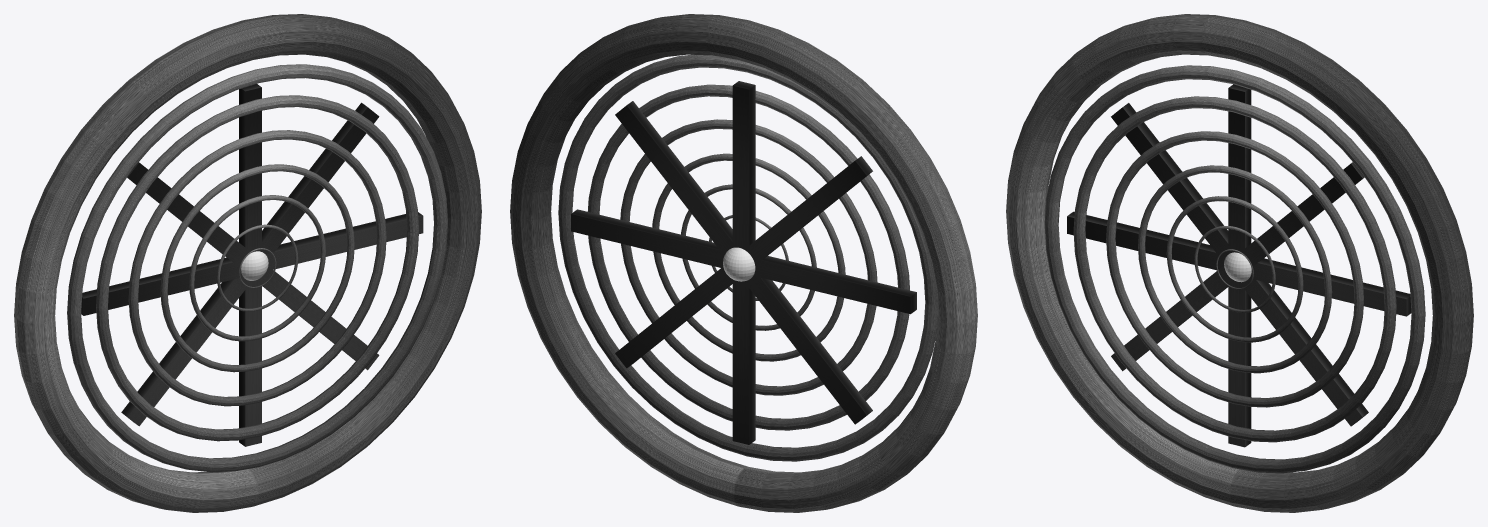
The model's file is ventilador.glb.
3 views of the same model, side by side, from view 1: azimuth 30°, elevation 25°; view 2: azimuth 150°, elevation 25°; view 3: azimuth 330°, elevation 25° (orthographic).
Parts seen in each view (by area): view 1: Torus, Cube.006, Sphere; view 2: Torus, Cube.006, Sphere; view 3: Torus, Cube.006, Sphere.
Part boxes in pixels (<box>): Torus: <box>14,14,481,512</box>; Cube.006: <box>81,84,423,446</box>; Sphere: <box>241,251,268,280</box>; Torus: <box>510,14,977,512</box>; Cube.006: <box>571,81,916,444</box>; Sphere: <box>723,247,755,281</box>; Torus: <box>1006,14,1473,512</box>; Cube.006: <box>1067,84,1411,447</box>; Sphere: <box>1224,252,1251,282</box>.
Bounding box in the file's own units: 2.31 × 2.31 × 0.1818.
Materials: 2 (2 with a texture image).
